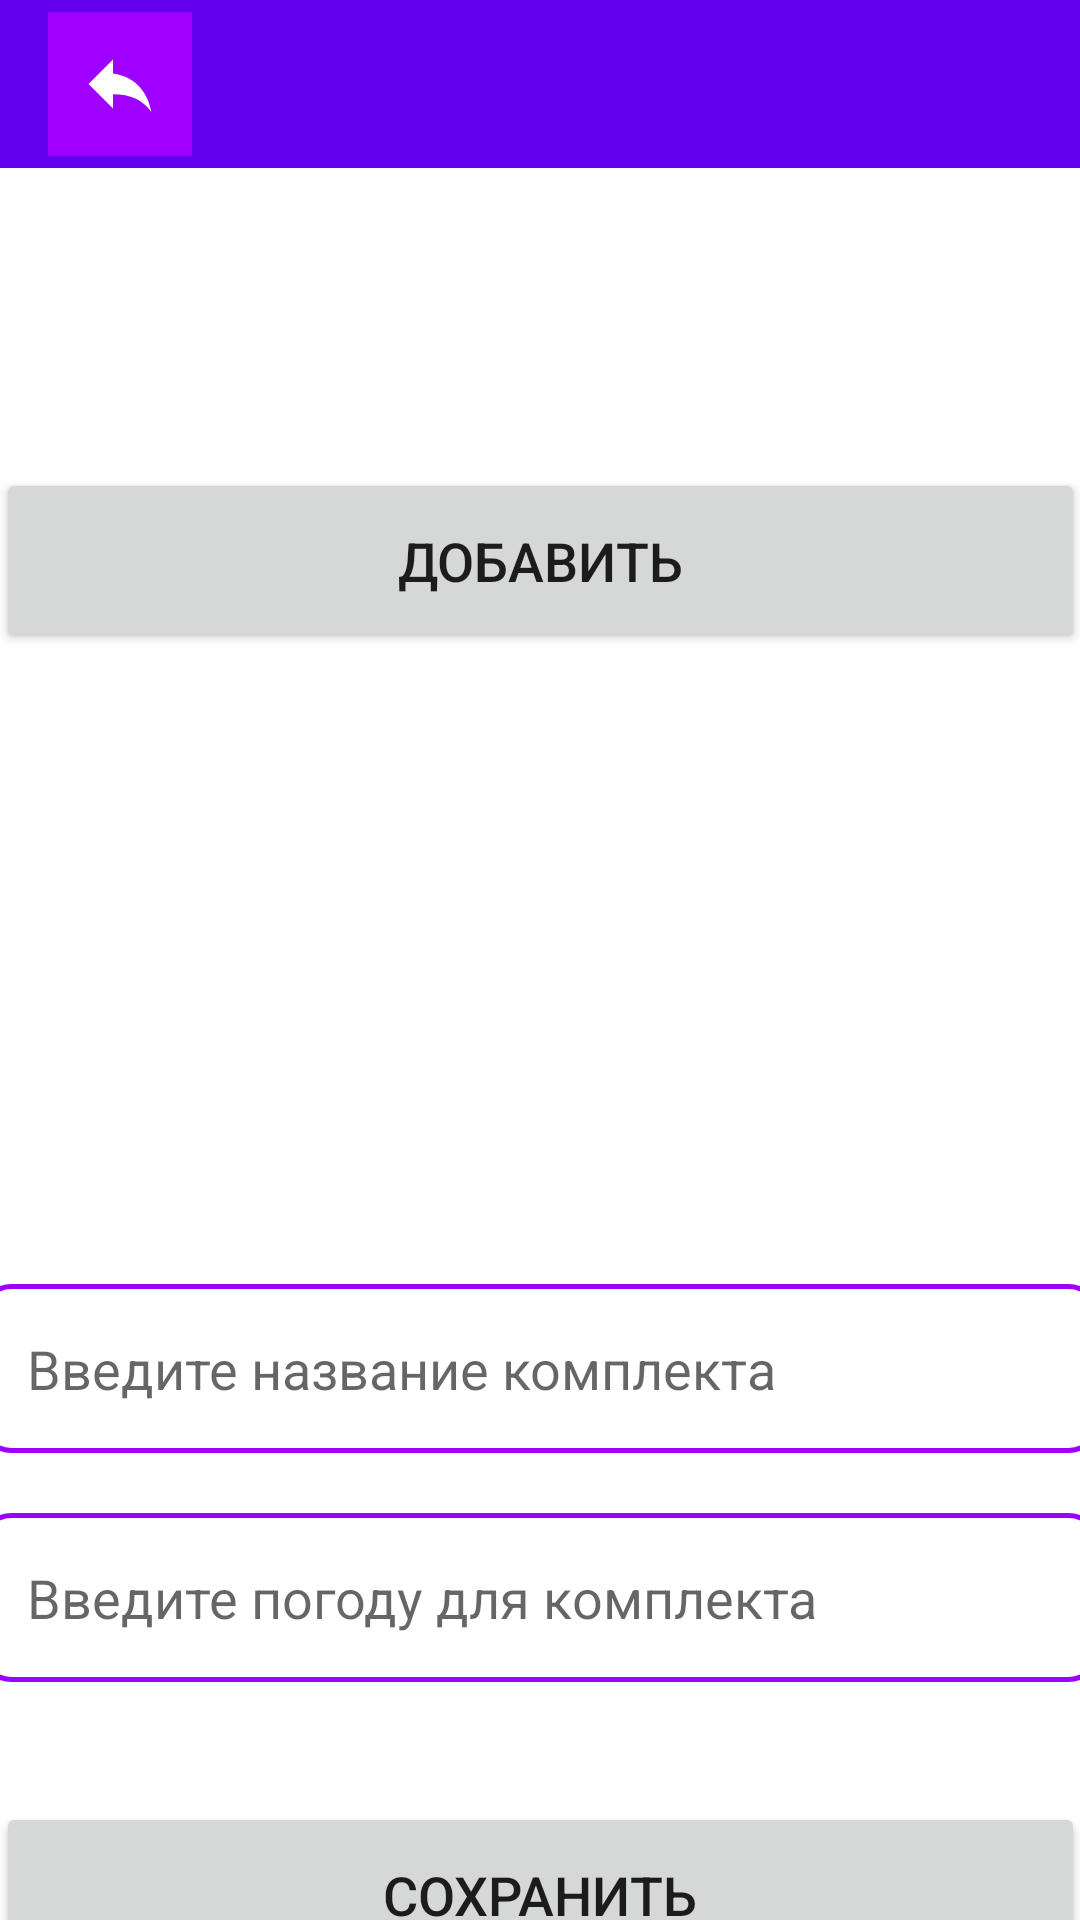

Icons on this 1080w x 1920h Android screen, each with the point to tap as [x,y]:
Revert: [120,84]
